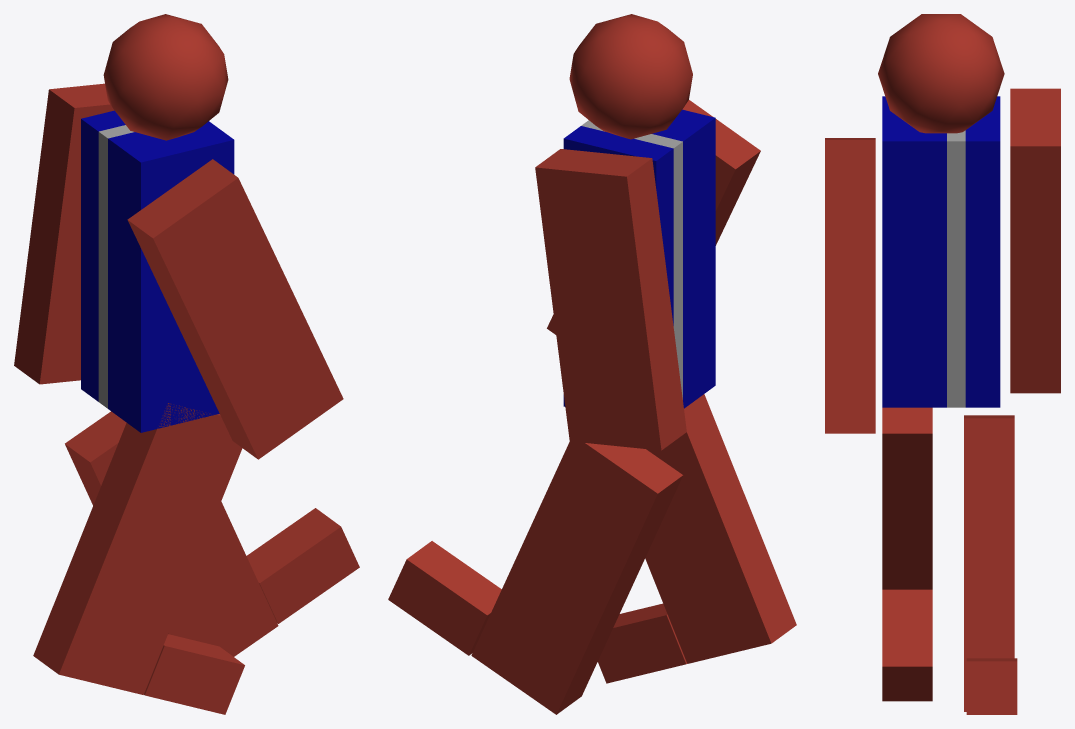
Rendered from player_000064.obj.
3 views of the same model, side by side, from view 1: azimuth 30°, elevation 25°; view 2: azimuth 150°, elevation 25°; view 3: azimuth 270°, elevation 25° (orthographic).
Visible parts, largest first — view 1: Cube.001, Cube.005, Cube, Cube.006, Icosphere, Cube.002, Cube.004, Cube.003; view 2: Cube.006, Cube.002, Cube.001, Cube, Icosphere, Cube.004, Cube.003, Cube.005; view 3: Cube, Cube.006, Cube.005, Cube.002, Icosphere, Cube.001, Cube.003, Cube.004.
Boxes of the visible parts, bbox=[...] form: Cube.001: bbox=[33, 403, 242, 694]; Cube.005: bbox=[127, 159, 343, 459]; Cube: bbox=[81, 110, 234, 432]; Cube.006: bbox=[14, 83, 114, 384]; Icosphere: bbox=[103, 14, 228, 140]; Cube.002: bbox=[65, 411, 278, 656]; Cube.004: bbox=[246, 508, 359, 623]; Cube.003: bbox=[144, 634, 244, 714]; Cube.006: bbox=[535, 149, 686, 450]; Cube.002: bbox=[471, 441, 683, 714]; Cube.001: bbox=[645, 394, 796, 663]; Cube: bbox=[563, 109, 715, 408]; Icosphere: bbox=[569, 14, 692, 139]; Cube.004: bbox=[388, 541, 501, 655]; Cube.003: bbox=[597, 603, 686, 683]; Cube.005: bbox=[547, 100, 760, 334]; Cube: bbox=[882, 96, 1000, 407]; Cube.006: bbox=[1010, 88, 1060, 393]; Cube.005: bbox=[825, 138, 875, 433]; Cube.002: bbox=[964, 415, 1014, 711]; Icosphere: bbox=[878, 14, 1004, 133]; Cube.001: bbox=[882, 407, 932, 589]; Cube.003: bbox=[882, 589, 932, 701]; Cube.004: bbox=[966, 658, 1017, 714].
Size of the model in its own units: 1.52 by 2.88 by 0.9137.
